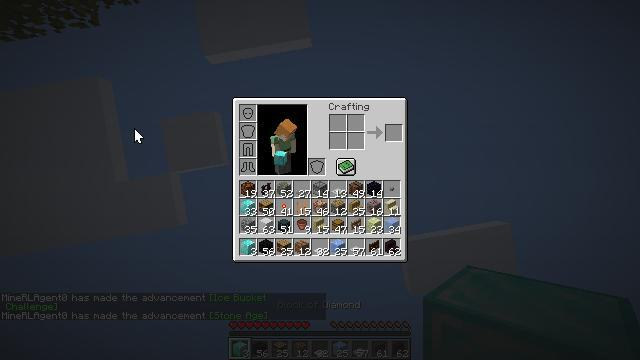cursor: (134, 128, 144, 144)
